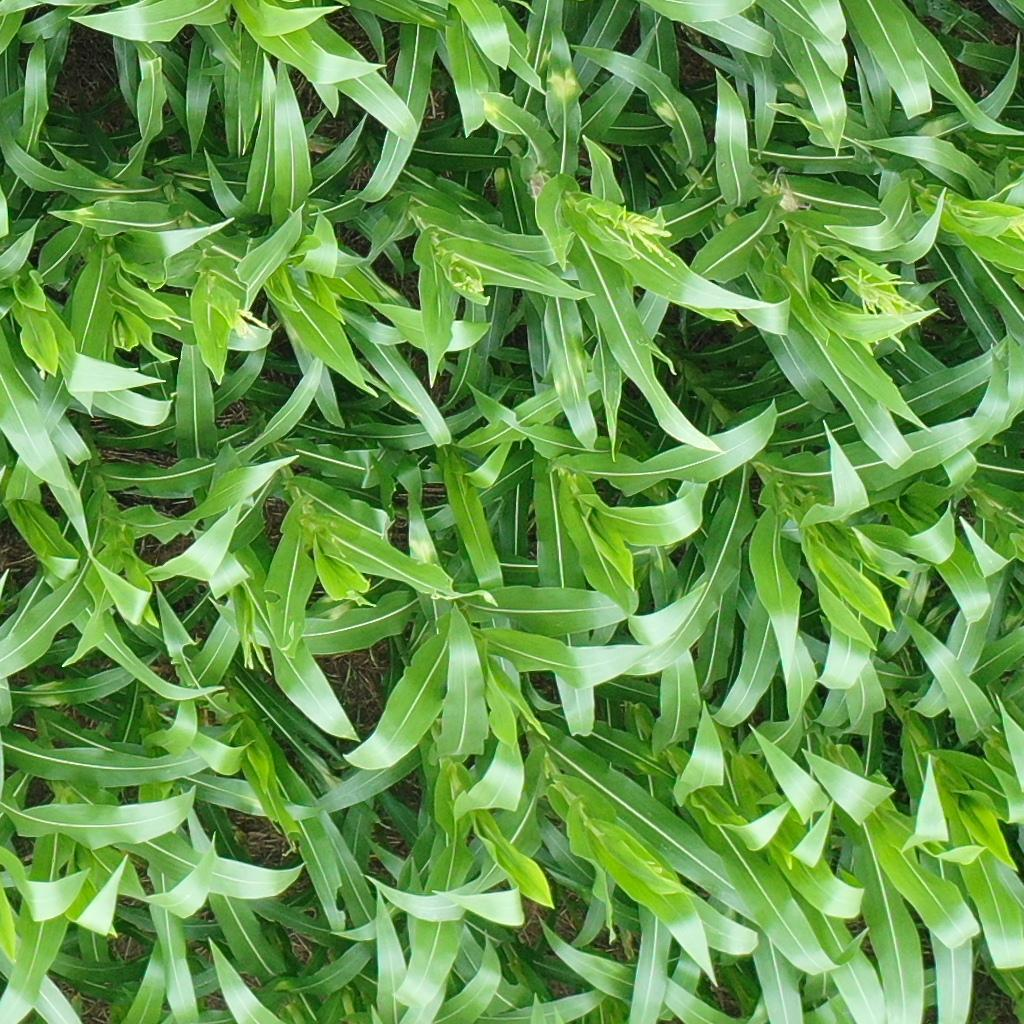Tassel: (828, 259, 931, 358), (609, 204, 678, 272), (949, 201, 1024, 252), (225, 303, 270, 341), (452, 273, 488, 300)
